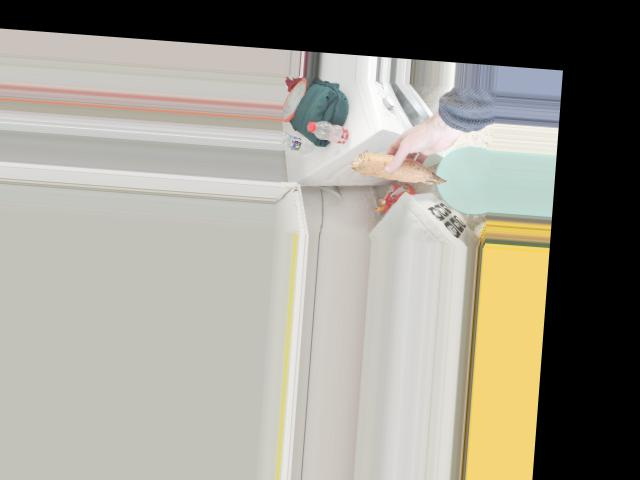sweet_potato: (345, 154, 449, 182)
